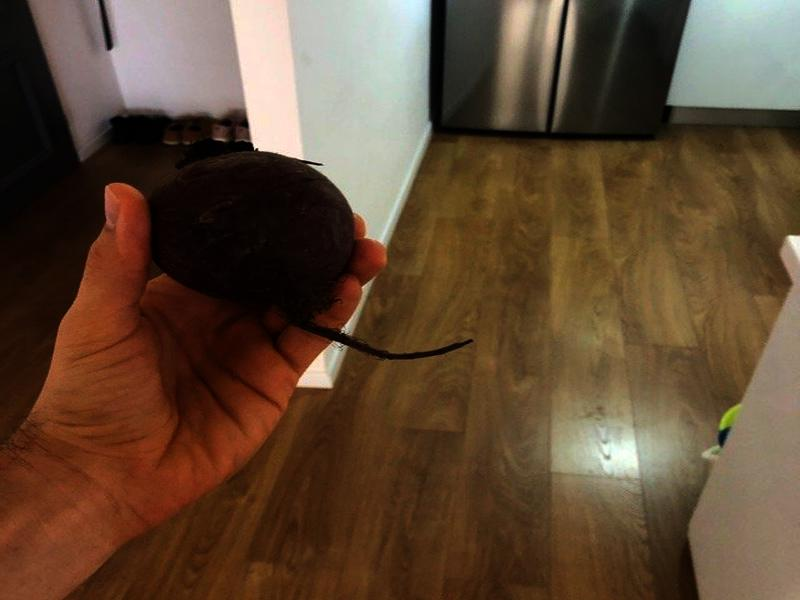Beet: (149, 141, 472, 359)
